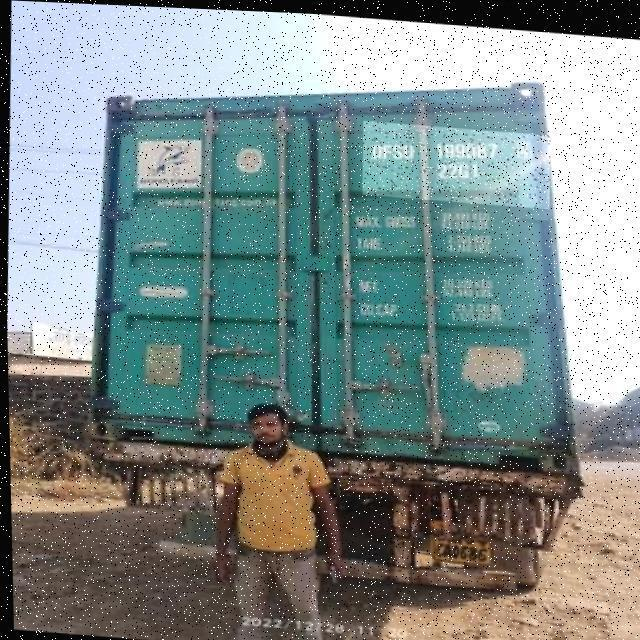container_number_h: (360, 117, 550, 204)
